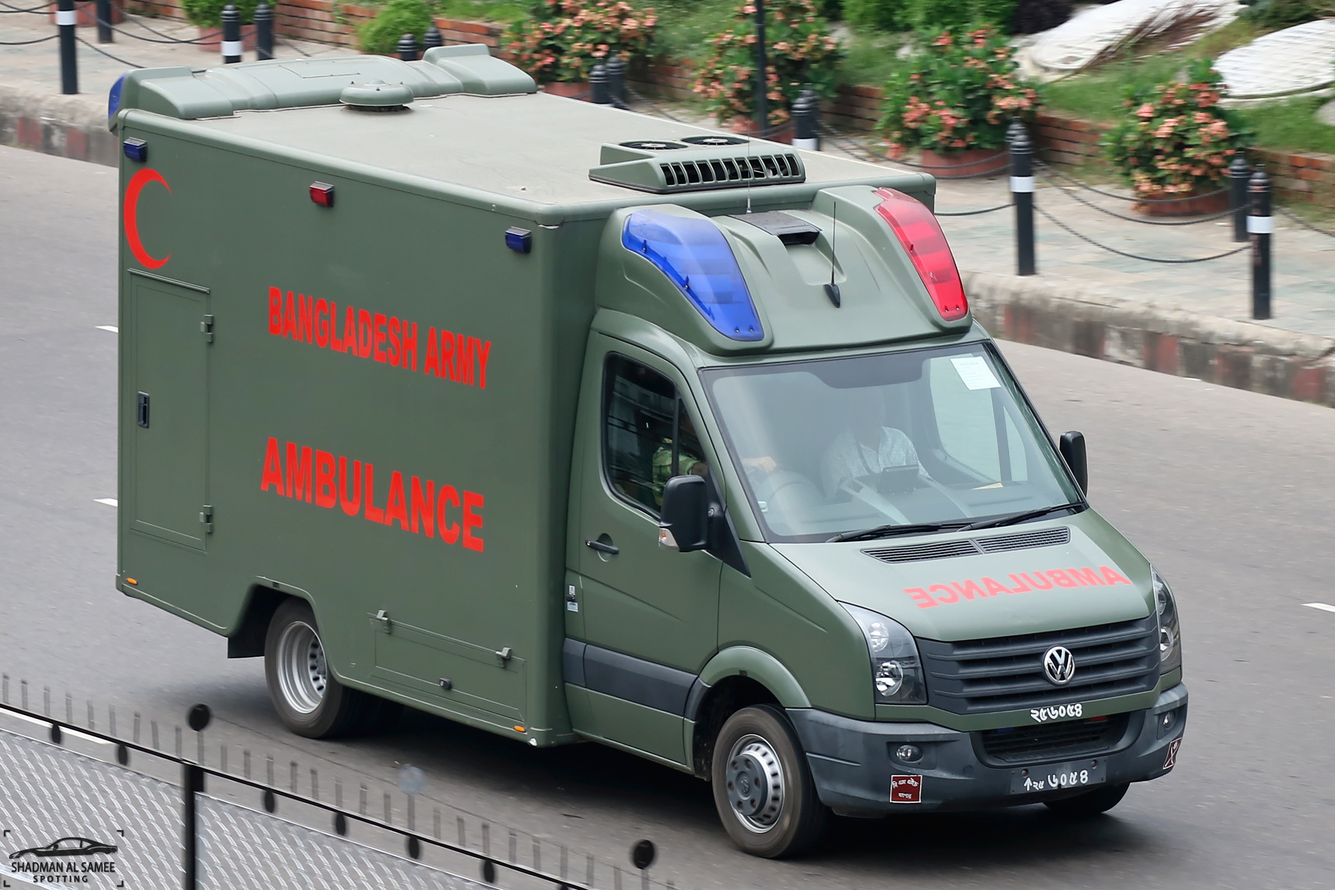Ambulance: (91, 36, 1212, 862)
